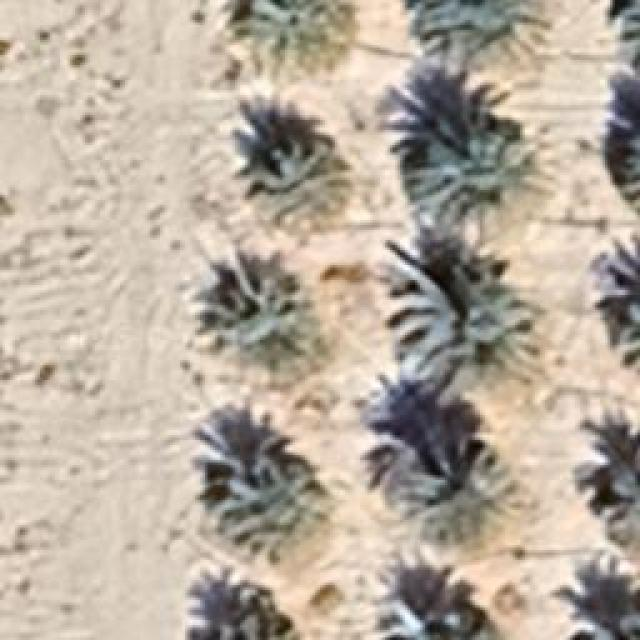PalmTree: (382, 255, 536, 408), (405, 104, 533, 224), (202, 251, 308, 364), (408, 440, 520, 542), (220, 464, 330, 558), (412, 0, 537, 82), (225, 0, 333, 88), (252, 140, 352, 218), (185, 577, 280, 640), (375, 590, 485, 638), (608, 458, 638, 548), (614, 302, 638, 382), (582, 608, 638, 638), (622, 135, 638, 215), (620, 0, 637, 72)
